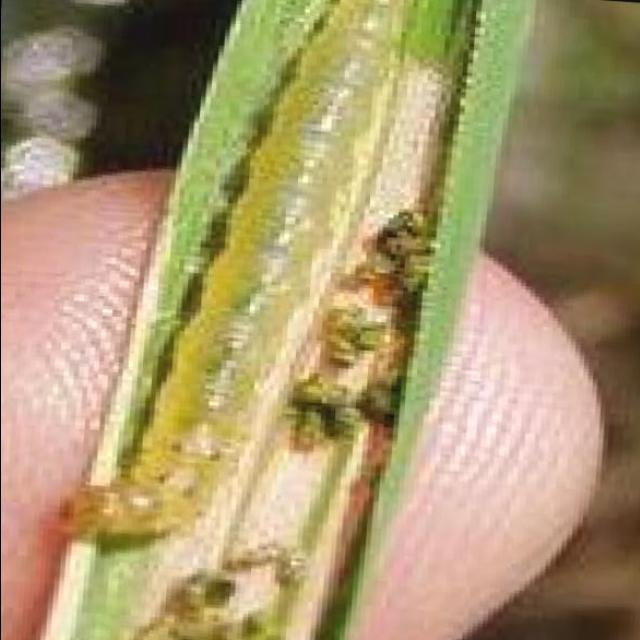leaf folder: (67, 0, 403, 555)
